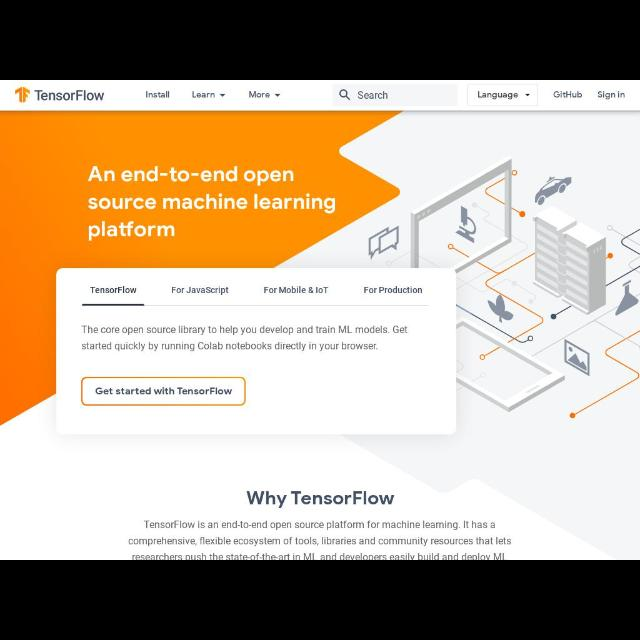backgroundimage: (1, 111, 639, 559)
icon: (338, 88, 352, 102), (524, 90, 532, 100), (275, 92, 281, 100), (220, 92, 227, 98)
image: (12, 84, 106, 106)
input: (332, 84, 456, 106)
multitab: (77, 277, 433, 305)
spinner: (468, 84, 538, 106), (244, 87, 286, 103), (190, 88, 230, 102)
text: (82, 158, 342, 246), (130, 514, 514, 558), (79, 322, 409, 352), (245, 486, 398, 508), (93, 385, 233, 399), (262, 284, 331, 298), (361, 284, 425, 296), (169, 284, 229, 296), (89, 285, 138, 297), (478, 90, 518, 100), (597, 89, 629, 101), (554, 89, 584, 101), (358, 90, 390, 100), (143, 90, 171, 100), (192, 91, 216, 99), (248, 90, 272, 98)
textbutton: (81, 377, 247, 405)
toolbar: (1, 82, 639, 110)
